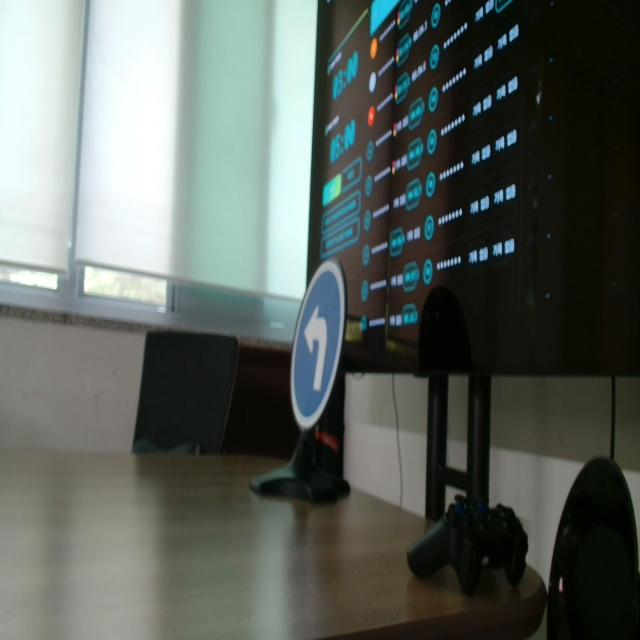left_direction: (283, 235, 373, 446)
